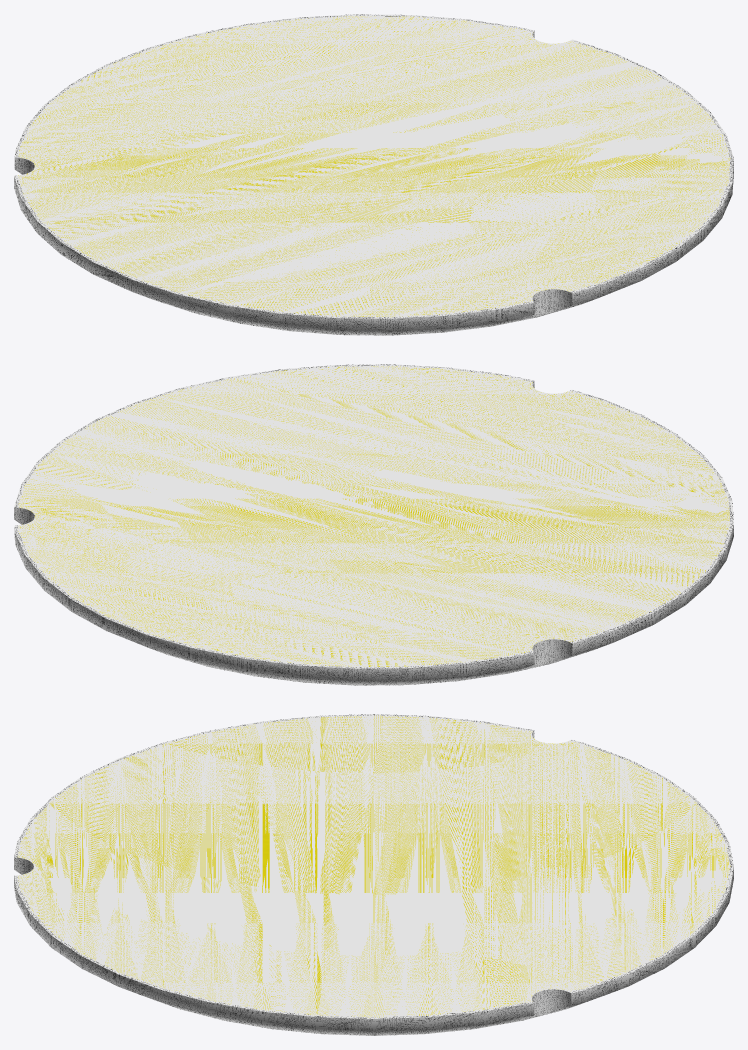
Rendered from original-13.obj.
The picture shows the model from 3 angles, top to bottom: view 1: azimuth 30°, elevation 25°; view 2: azimuth 150°, elevation 25°; view 3: azimuth 270°, elevation 25°; orthographic projection.
Parts seen in each view (by area): view 1: Component_8_1/Component_8/mesh5/mesh5-geometry#mesh5-geometry; view 2: Component_8_1/Component_8/mesh5/mesh5-geometry#mesh5-geometry; view 3: Component_8_1/Component_8/mesh5/mesh5-geometry#mesh5-geometry.
Boxes of the visible parts, bbox=[...] form: Component_8_1/Component_8/mesh5/mesh5-geometry#mesh5-geometry: bbox=[14, 14, 733, 335]; Component_8_1/Component_8/mesh5/mesh5-geometry#mesh5-geometry: bbox=[14, 364, 733, 685]; Component_8_1/Component_8/mesh5/mesh5-geometry#mesh5-geometry: bbox=[14, 714, 733, 1035].
Bounding box in the file's own units: 1.11 × 0.0521 × 1.11.
3 materials, 2 textured.
